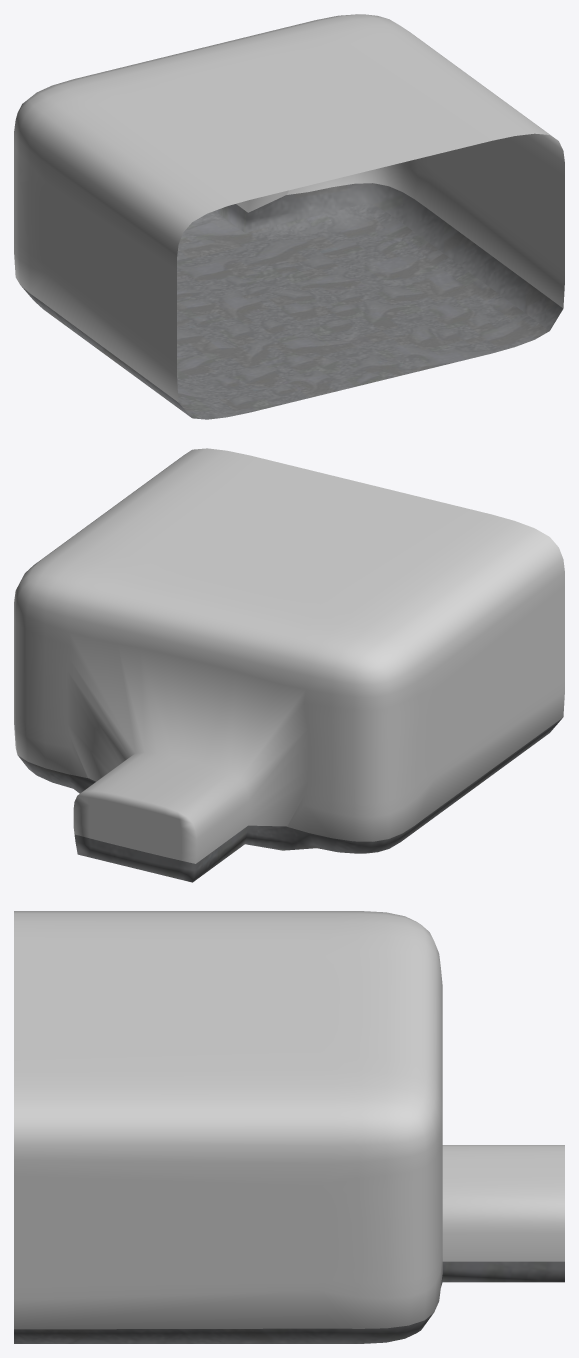
Rendered from middlePlayground.fbx.
The picture shows the model from 3 angles, top to bottom: view 1: azimuth 30°, elevation 25°; view 2: azimuth 150°, elevation 25°; view 3: azimuth 270°, elevation 25°; orthographic projection. The views are drawn at different scales.
Parts seen in each view (by area): view 1: Plane; view 2: Plane; view 3: Plane.
Part boxes in pixels (bbox=[...]): Plane: bbox=[14, 14, 564, 419]; Plane: bbox=[14, 448, 564, 882]; Plane: bbox=[14, 911, 564, 1343].
Size of the model in its own units: 62.83 by 32.92 by 66.17.
Materials: 2 (1 with a texture image).
